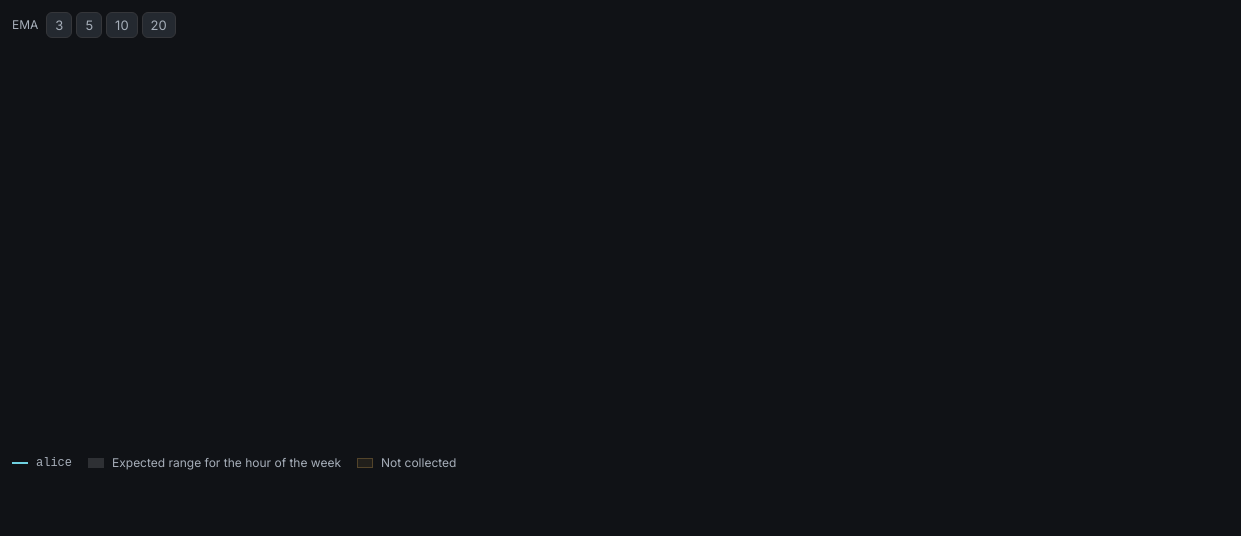
PropertyWatchSeriesChart EMA overlay › keeps a legend entry with the span, and says when a period never has a run
Click the button named "EMA 3" at (59, 25), box [46,12,72,38]
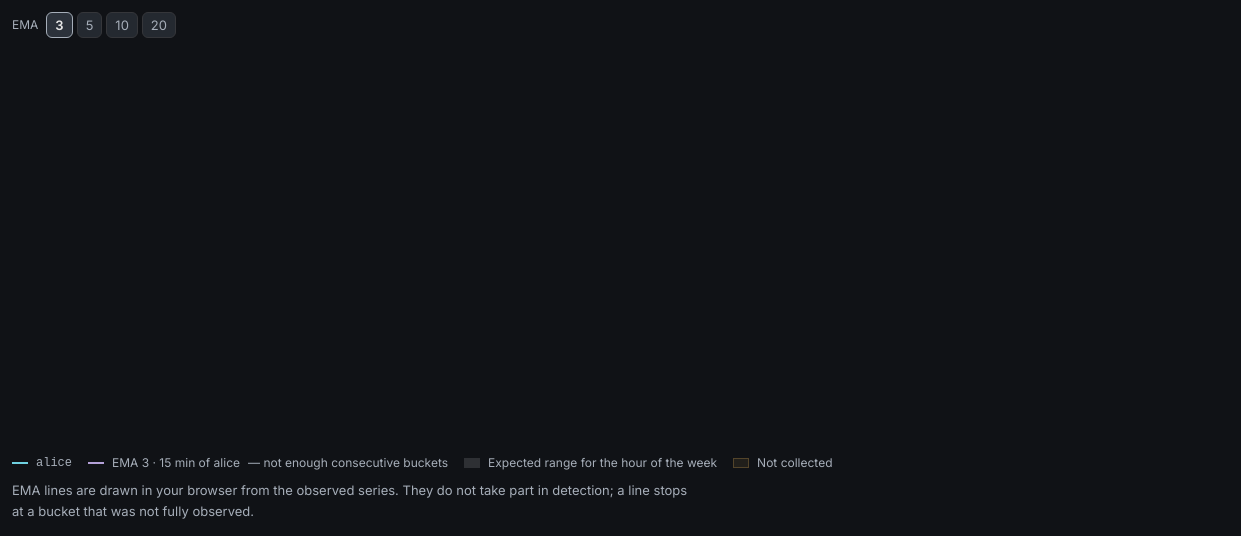
Click the button named "EMA 20" at (159, 25), box [142,12,176,38]
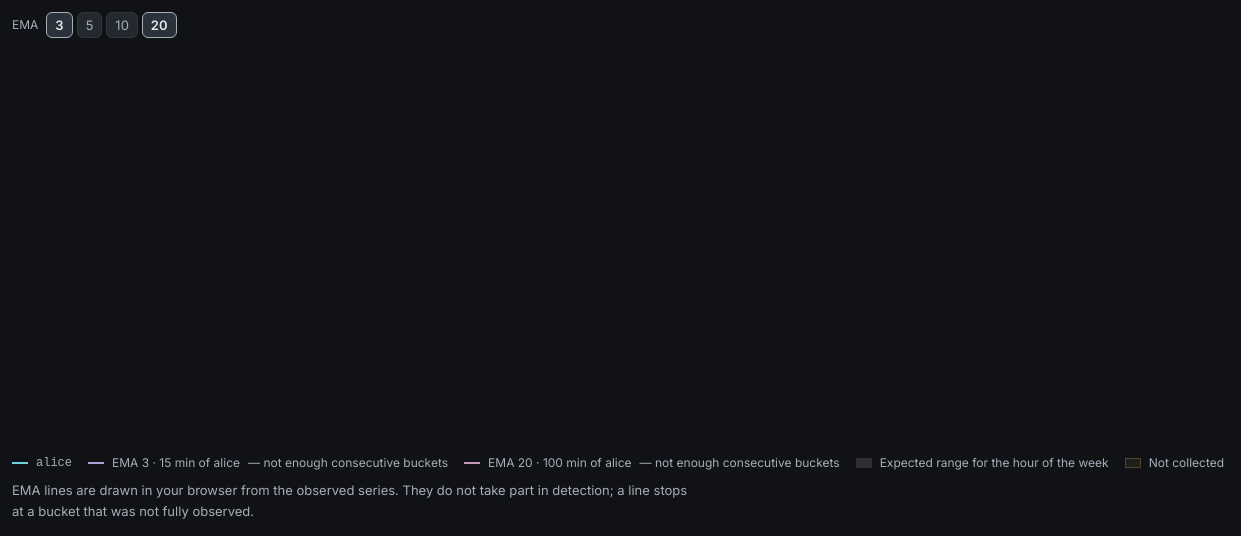
Expected: the list item "EMA 3 · 15 min of alice — not enough consecutive buckets" is shown, [88,454,448,472]
Expected: the list item "EMA 20 · 100 min of alice — not enough consecutive buckets" is shown, [464,454,840,472]
Expected: the text "— not enough consecutive buckets" is shown 2 times, [248,454,448,472]; [640,454,840,472]
